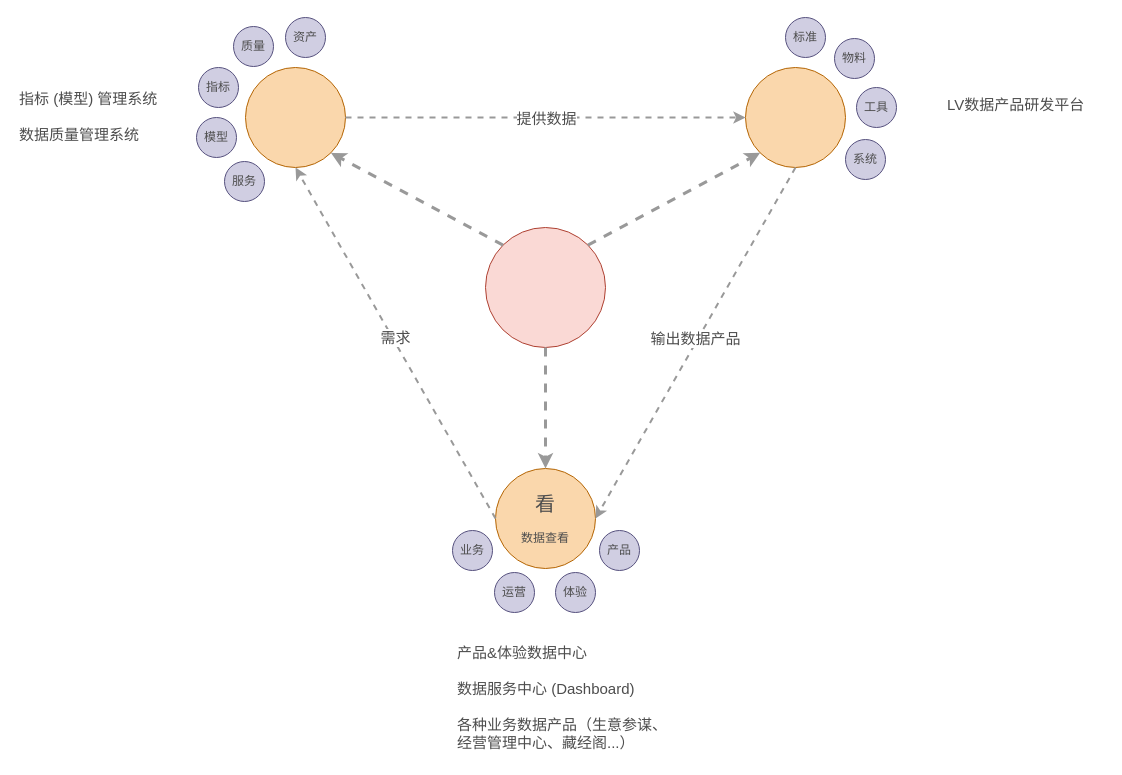
Some shapes in this 1122 by 775 pixel diagram are drawn without their labels. The shapes that lost their labels are listed below. From the top down, each one's centre as x and y in pixels, then its label:
At (x=295, y=117): "管 数据管理".
At (x=795, y=117): "做 数据产品研发".
At (x=545, y=287): "LV 可视化".
